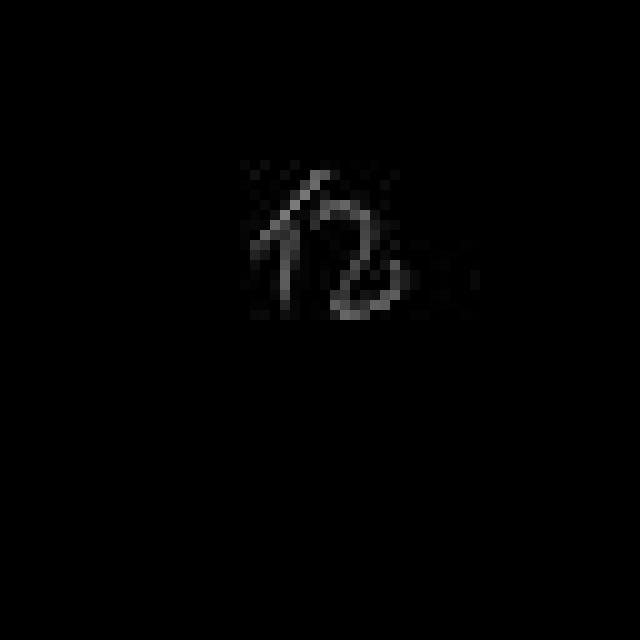100000 -a hundred thousand-: (247, 155, 415, 331)
